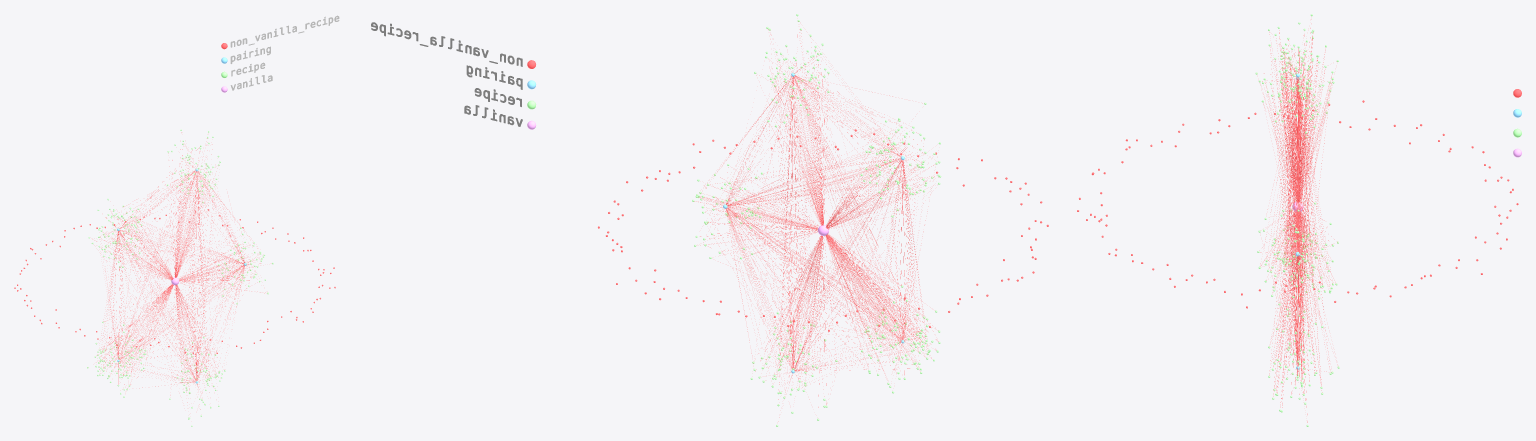
Rendered from vanilla.gltf.
The picture shows the model from 3 angles, left to right: view 1: azimuth 30°, elevation 25°; view 2: azimuth 150°, elevation 25°; view 3: azimuth 270°, elevation 25°; orthographic projection. The views are drawn at different scales.
Visible parts, largest first — view 1: Data; view 2: Data; view 3: Data.
Part boxes in pixels (x1,y1,x2,y2): Data: (92, 132, 271, 409); Data: (694, 21, 938, 421); Data: (1259, 19, 1337, 422).
Size of the model in its own units: 0.2807 by 0.205 by 0.2025.
16 materials, 12 textured.
